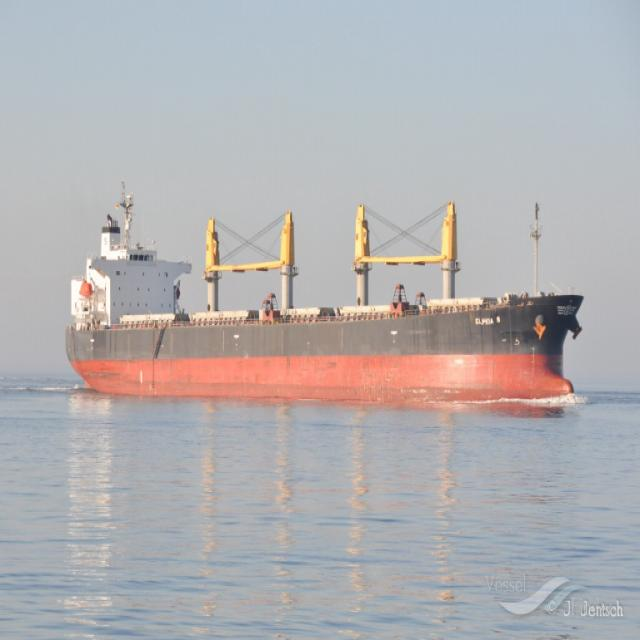OCR: (473, 305, 496, 327)
